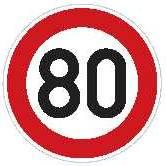Speed Limit -80-: (18, 22, 146, 150)
